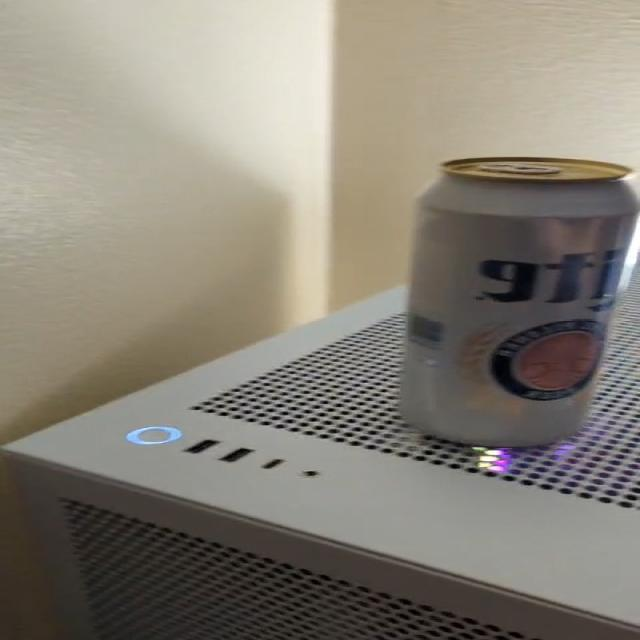metal: (402, 158, 638, 446)
